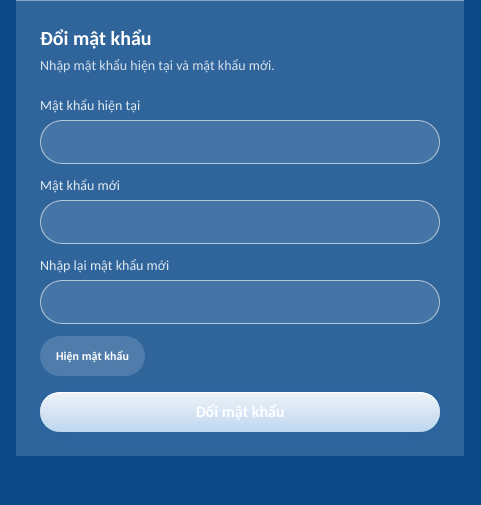
ChangePasswordPage — validate (P3-T7) › xác nhận không khớp → báo lỗi, không gọi API
Type "mat-khau-cu" into the password field labelled "Mật khẩu hiện tại" at coordinates (240, 142), box x1=40 y1=120 x2=440 y2=164
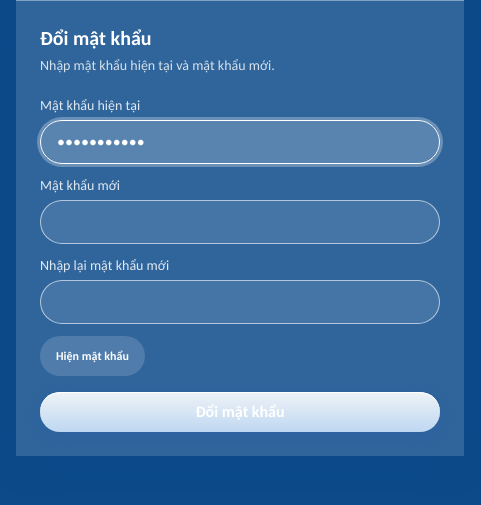
Type "mat-khau-moi" into the password field labelled "Mật khẩu mới" at coordinates (240, 222), box x1=40 y1=200 x2=440 y2=244
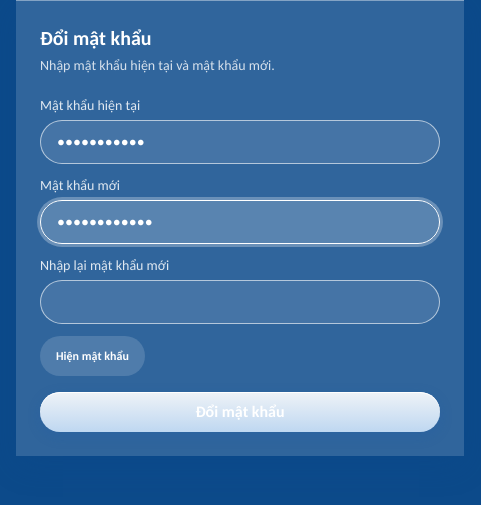
Type "mat-khau-khac" into the password field labelled "Nhập lại mật khẩu mới" at coordinates (240, 302), box x1=40 y1=280 x2=440 y2=324
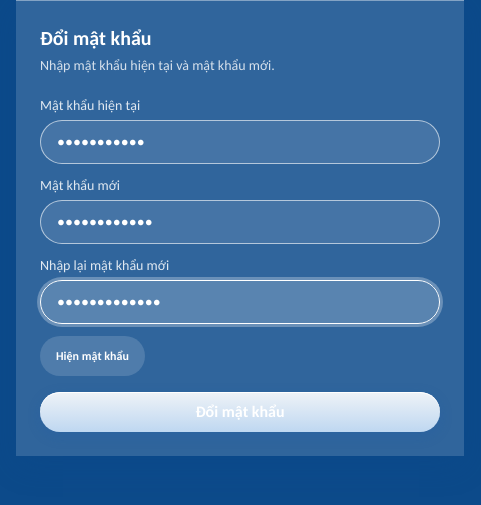
Click the button "Đổi mật khẩu" at coordinates (240, 412), box x1=40 y1=392 x2=440 y2=432
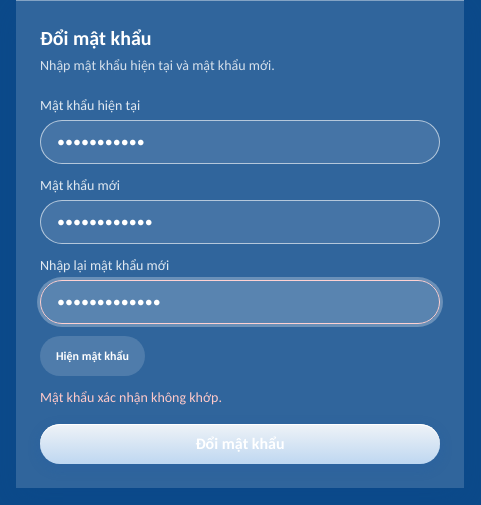
Check: the message reads "Mật khẩu xác nhận không khớp.", box x1=40 y1=389 x2=222 y2=406
